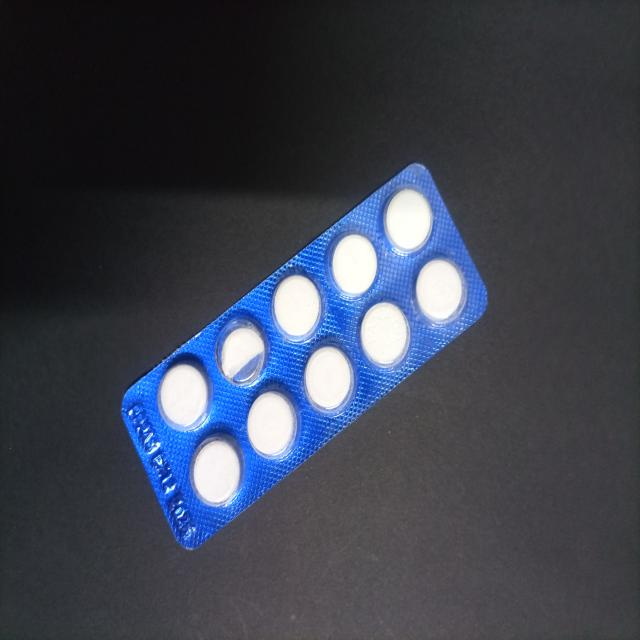defect: (216, 316, 270, 389)
